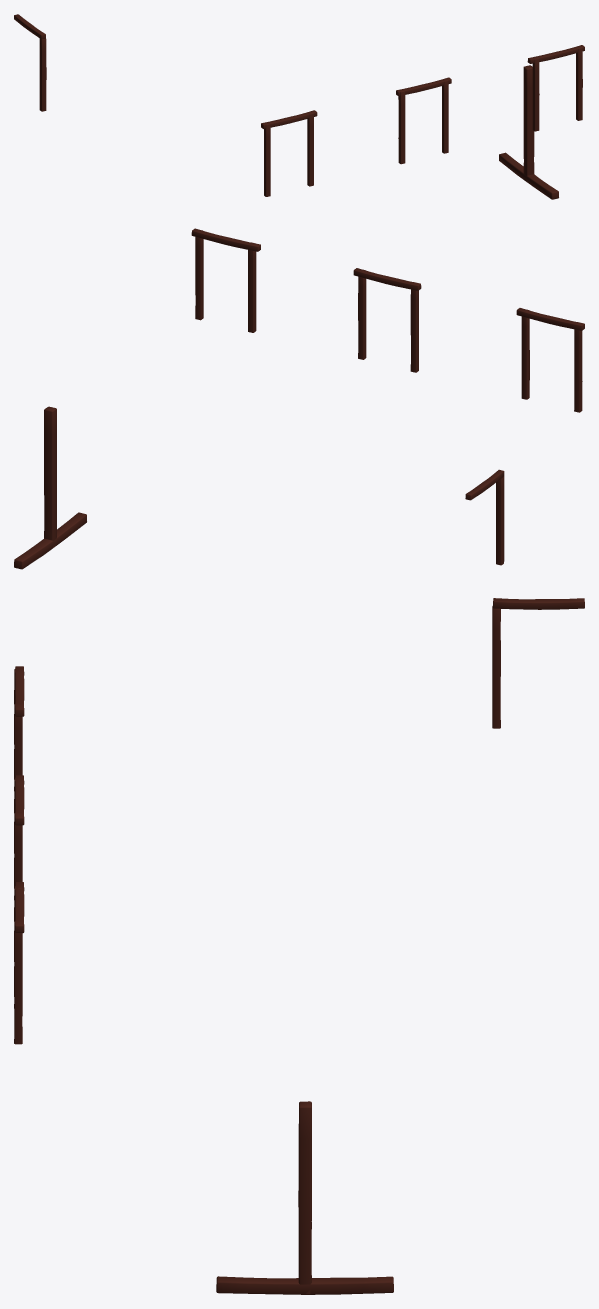
The model's file is FirstFloorFramesInPlace_mdl.fbx.
The picture shows the model from 3 angles, top to bottom: view 1: azimuth 30°, elevation 25°; view 2: azimuth 150°, elevation 25°; view 3: azimuth 270°, elevation 25°; orthographic projection. The views are drawn at different scales.
Parts seen in each view (by area): view 1: SidecolumnDoor, TopBeamDoor, SidecolumnDoor.001, SidecolumnDoor.007, SidecolumnDoor.005, SidecolumnDoor.002, SidecolumnDoor.004, SidecolumnDoor.003, SidecolumnDoor.006, TopBeamDoor.004, TopBeamDoor.002, TopBeamDoor.003 (+1 smaller); view 2: SidecolumnDoor, TopBeamDoor, SidecolumnDoor.001, SidecolumnDoor.002, SidecolumnDoor.007, SidecolumnDoor.004, SidecolumnDoor.003, SidecolumnDoor.006, SidecolumnDoor.005, TopBeamDoor.004, TopBeamDoor.002, TopBeamDoor.003; view 3: TopBeamDoor, SidecolumnDoor, SidecolumnDoor.001, SidecolumnDoor.006, TopBeamDoor.001.
Boxes of the visible parts, <box> form: SidecolumnDoor: <box>523,65,534,181</box>; TopBeamDoor: <box>499,152,558,199</box>; SidecolumnDoor.001: <box>39,38,46,111</box>; SidecolumnDoor.007: <box>532,57,539,131</box>; SidecolumnDoor.005: <box>398,91,405,164</box>; SidecolumnDoor.002: <box>307,112,313,186</box>; SidecolumnDoor.004: <box>442,79,448,153</box>; SidecolumnDoor.003: <box>264,124,270,196</box>; SidecolumnDoor.006: <box>576,47,582,120</box>; TopBeamDoor.004: <box>527,45,584,63</box>; TopBeamDoor.002: <box>261,110,317,128</box>; TopBeamDoor.003: <box>396,77,451,96</box>; SidecolumnDoor: <box>44,406,56,547</box>; TopBeamDoor: <box>14,512,86,569</box>; SidecolumnDoor.001: <box>496,476,504,565</box>; SidecolumnDoor.002: <box>521,309,529,399</box>; SidecolumnDoor.007: <box>248,242,256,332</box>; SidecolumnDoor.004: <box>358,269,366,359</box>; SidecolumnDoor.003: <box>574,329,582,412</box>; SidecolumnDoor.006: <box>195,230,203,320</box>; SidecolumnDoor.005: <box>410,289,418,372</box>; TopBeamDoor.004: <box>191,228,260,251</box>; TopBeamDoor.002: <box>516,308,584,330</box>; TopBeamDoor.003: <box>353,268,421,290</box>; TopBeamDoor: <box>216,1276,393,1294</box>; SidecolumnDoor: <box>298,1101,311,1294</box>; SidecolumnDoor.001: <box>492,606,500,728</box>; SidecolumnDoor.006: <box>14,921,22,1044</box>; TopBeamDoor.001: <box>493,598,584,609</box>.
Size of the model in its own units: 1005 by 462 by 690.
